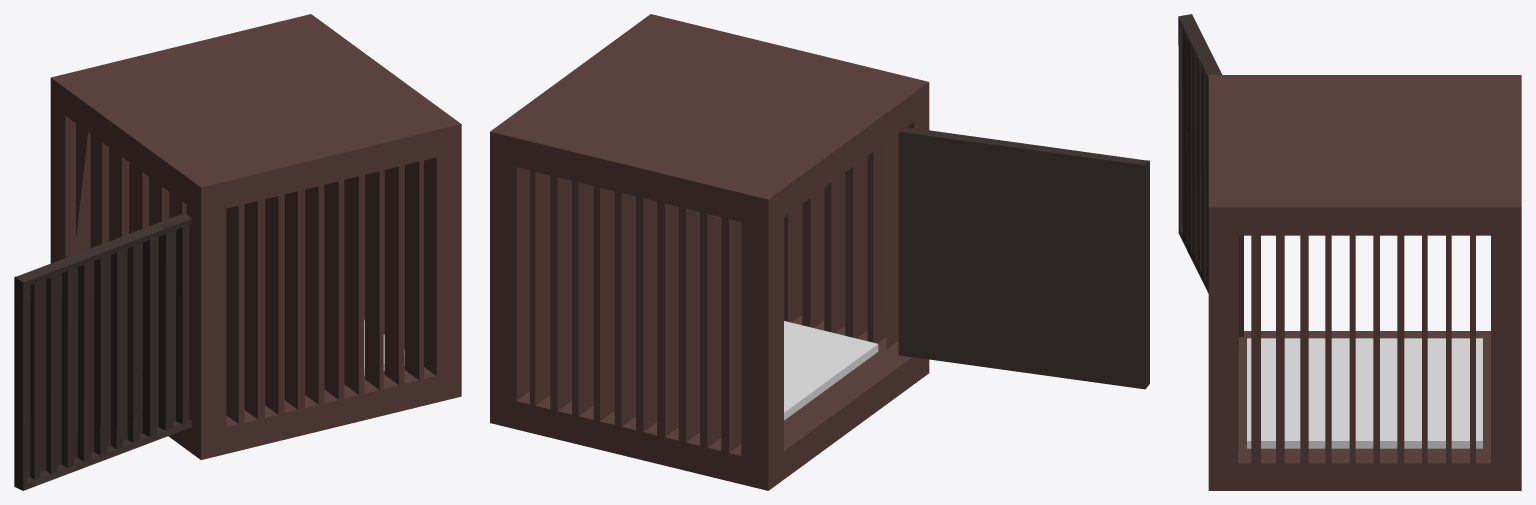
Rendered from Cage.fbx.
3 renders of one model, left to right at view 1: azimuth 30°, elevation 25°; view 2: azimuth 150°, elevation 25°; view 3: azimuth 270°, elevation 25°, orthographic. The views are drawn at different scales.
Visible parts, largest first — view 1: Crate, Door; view 2: Crate, Door, Cube; view 3: Crate, Cube, Door.
Boxes of the visible parts, x1,y1,x2,y2 form: Crate: [50, 14, 461, 459]; Door: [14, 212, 192, 490]; Crate: [490, 14, 929, 490]; Door: [898, 127, 1149, 389]; Cube: [784, 321, 878, 420]; Crate: [1208, 75, 1521, 490]; Cube: [1247, 338, 1482, 448]; Door: [1178, 14, 1243, 337].
Bounding box in the file's own units: 187 × 107 × 117.
